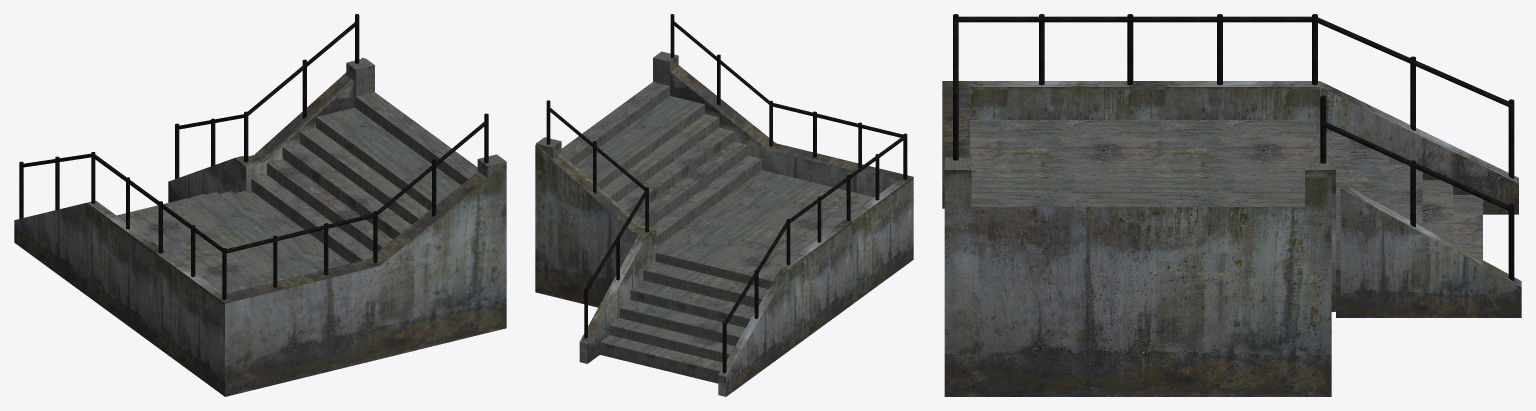
File: objStair.obj
3 renders of one model, left to right at view 1: azimuth 30°, elevation 25°; view 2: azimuth 150°, elevation 25°; view 3: azimuth 270°, elevation 25°, orthographic. The views are drawn at different scales.
Parts seen in each view (by area): view 1: stairs1; view 2: stairs1; view 3: stairs1.
Part boxes in pixels (box(x1,y1,x2,y2)): stairs1: box(14, 14, 506, 396); stairs1: box(535, 14, 913, 396); stairs1: box(942, 14, 1521, 396).
Size of the model in its own units: 2.21 by 1.6 by 2.86.
